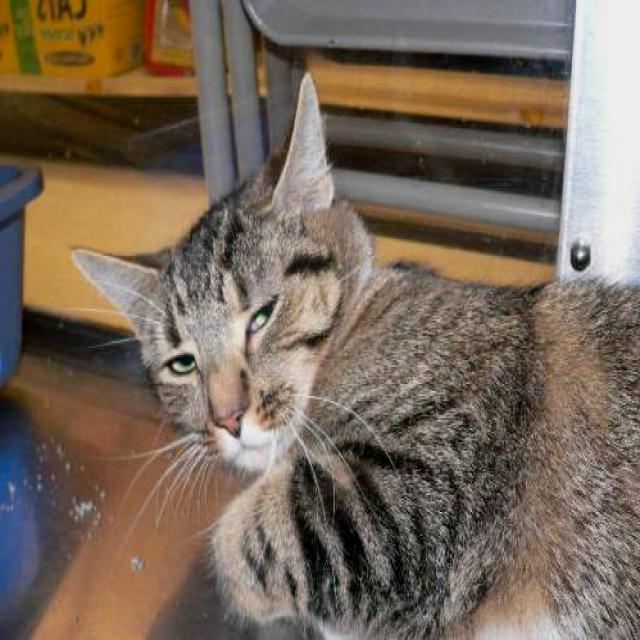Kucing: (39, 55, 640, 639)
